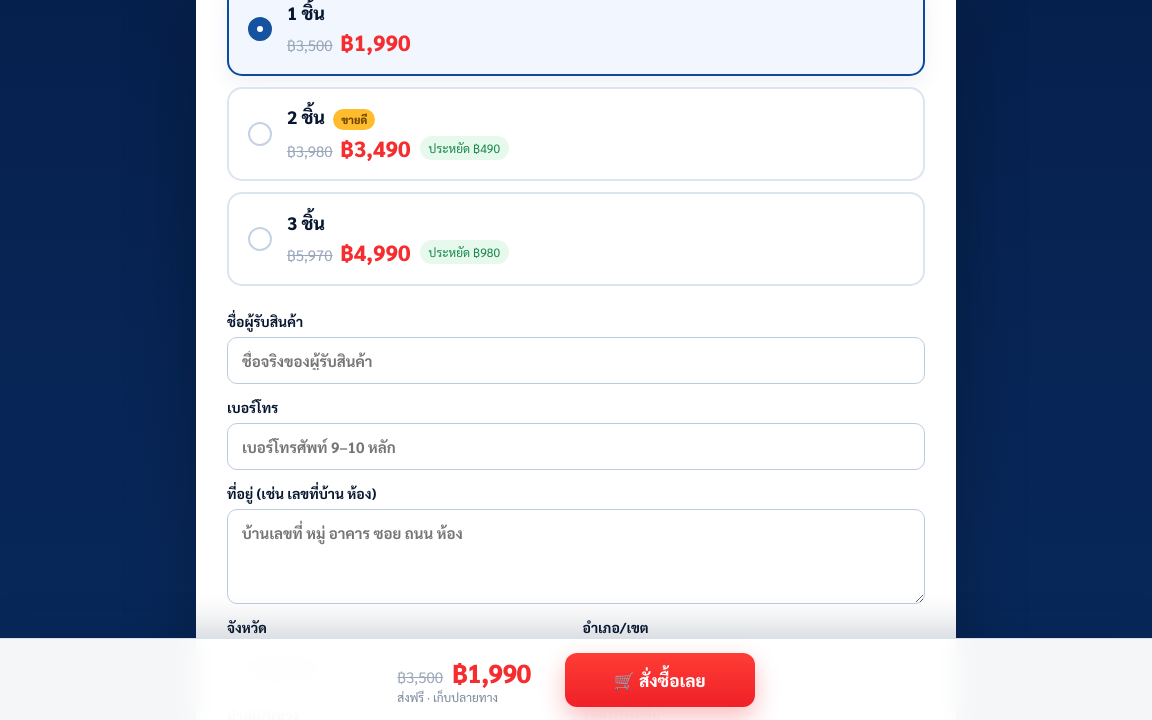
back support sales page › marks each incomplete or invalid field with an inline error
(page scrolled)
Type "ทดสอบ" into the field labelled "ชื่อผู้รับสินค้า" at {"x": 576, "y": 360}, box top-left (227, 337), bottom-right (925, 384)
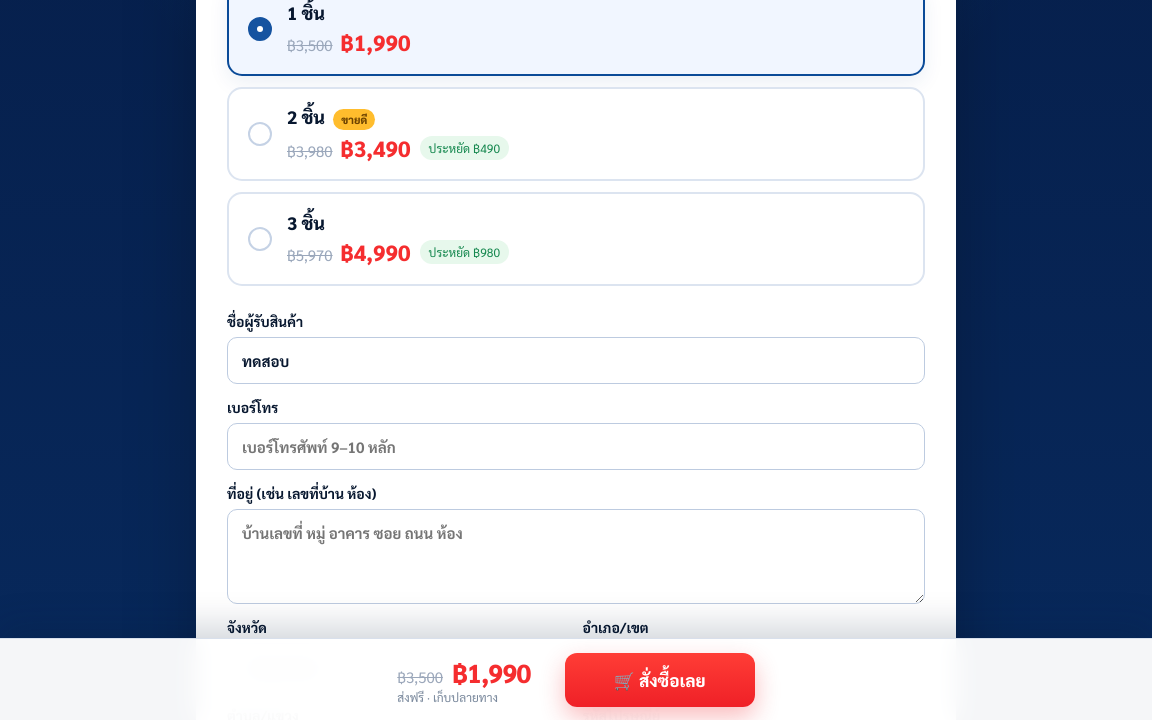
Type "123" into the field labelled "เบอร์โทร" at {"x": 576, "y": 446}, box top-left (227, 423), bottom-right (925, 470)
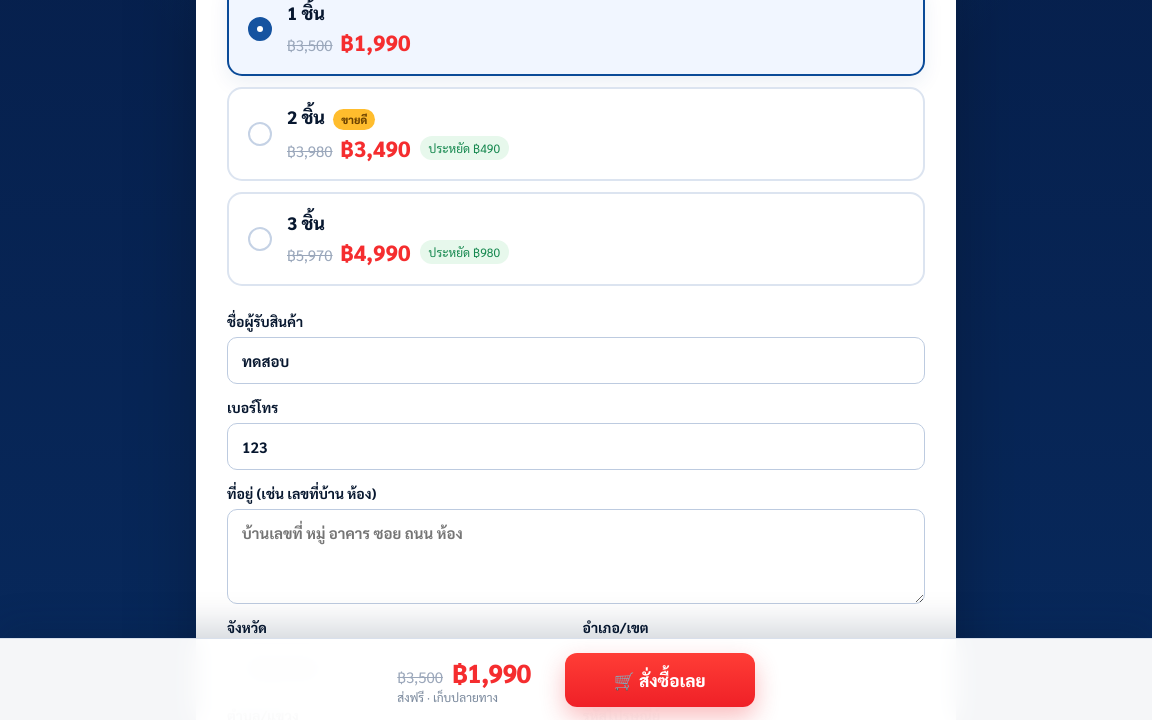
Type "บ้าน" into the text box labelled "ที่อยู่ (เช่น เลขที่บ้าน ห้อง)" at {"x": 576, "y": 556}, box top-left (227, 509), bottom-right (925, 604)
(page scrolled)
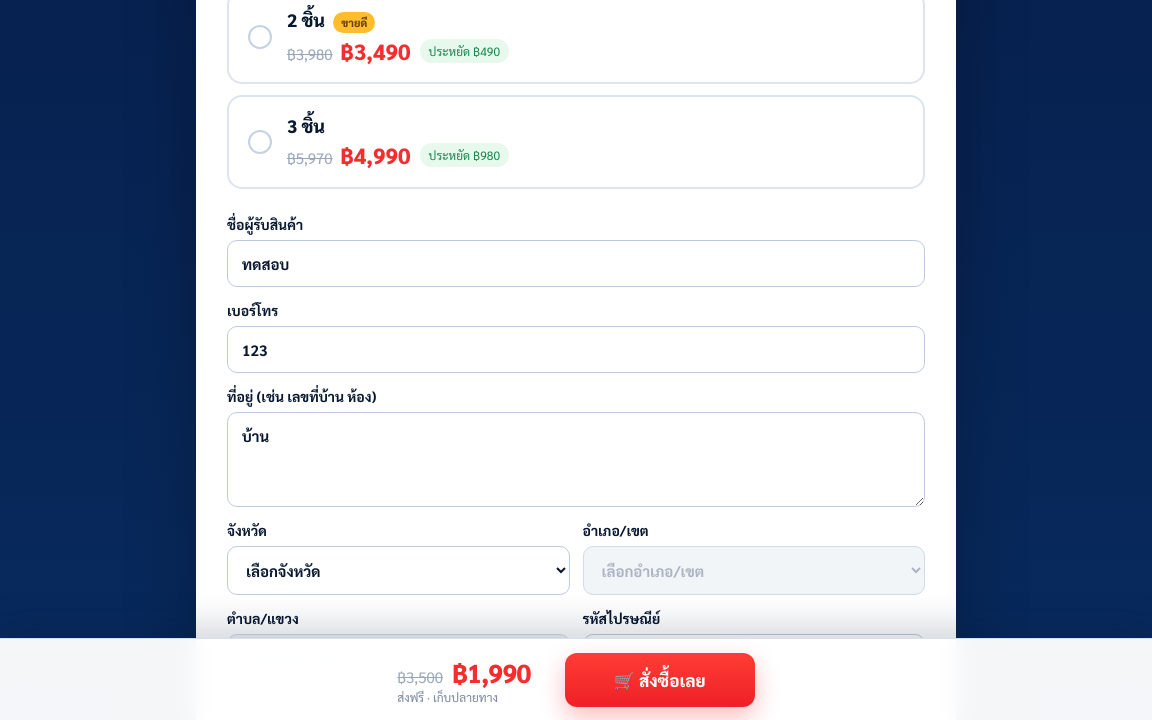
Submit the form named "ยืนยันการสั่งซื้อ"
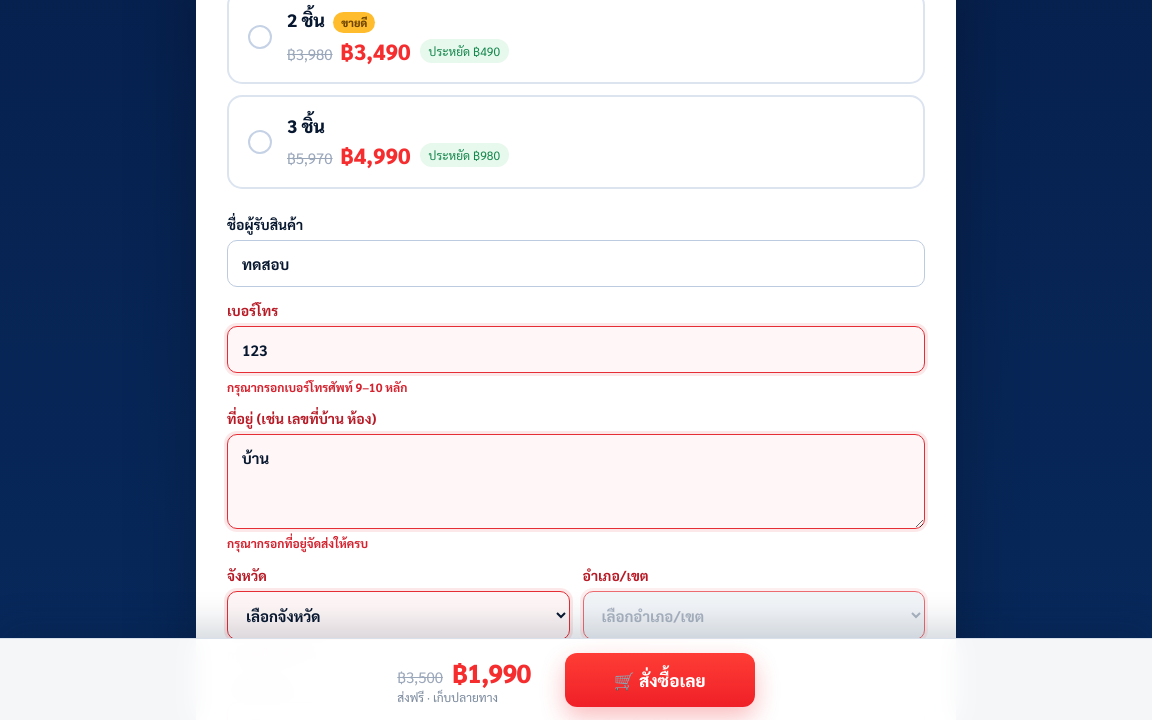
Now the text "กรุณากรอกเบอร์โทรศัพท์ 9–10 หลัก" is shown, box top-left (227, 379), bottom-right (407, 395)
